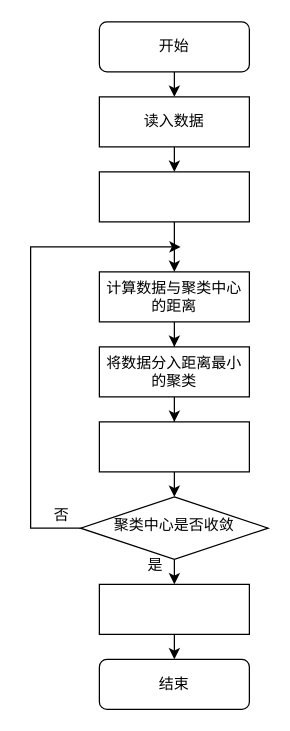
This 290x731 diagram has some shape labels left out. The box of each missing label's shape, as (x1, y1, x2, y2) in pixels:
计算新的聚类中心: (98, 421, 249, 472)
设置初始聚类中心: (98, 171, 249, 222)
设置聚类中心: (98, 583, 249, 634)
